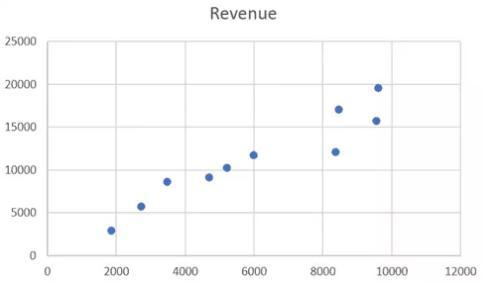axis: (44, 252, 465, 259), (45, 35, 52, 261)
point: (245, 149, 266, 164), (103, 222, 121, 239), (199, 171, 217, 186), (158, 175, 175, 190), (371, 80, 386, 97), (132, 201, 151, 214), (220, 162, 236, 177), (369, 115, 384, 130), (328, 146, 345, 159), (332, 101, 346, 116)
